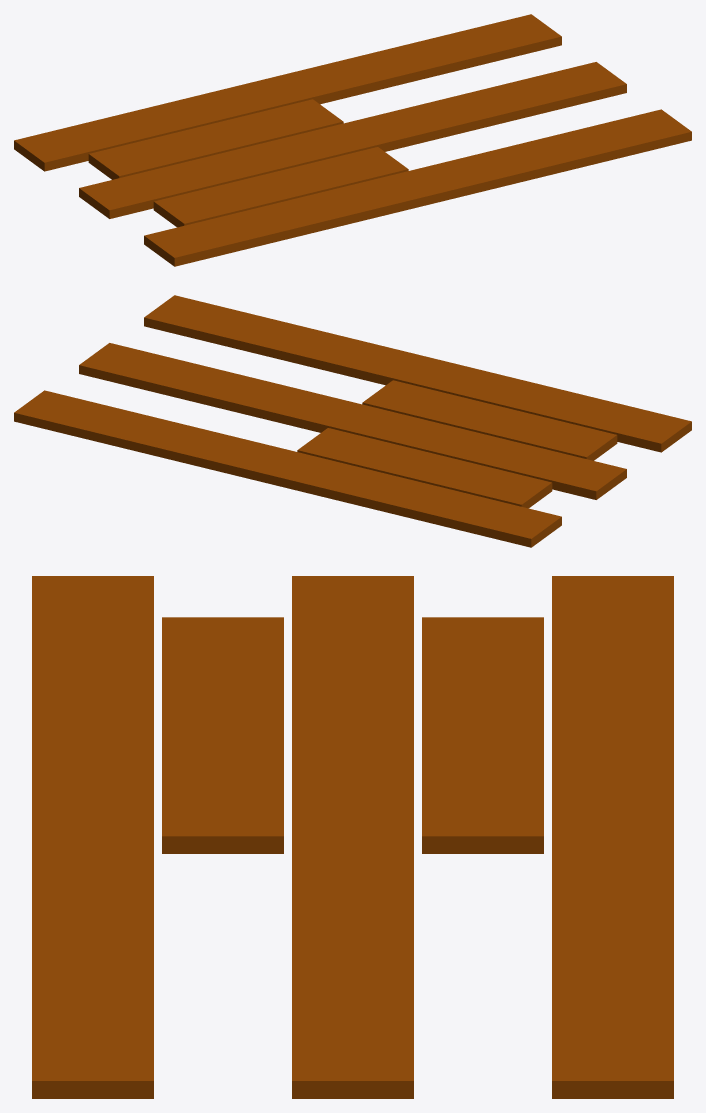
The model's file is RPG_Tiles_Square_Wooden_Boards_Double_04.FBX.
3 views of the same model, one above another, from view 1: azimuth 30°, elevation 25°; view 2: azimuth 150°, elevation 25°; view 3: azimuth 270°, elevation 25° (orthographic). The views are drawn at different scales.
Visible parts, largest first — view 1: RPG_Tiles_Square_Wooden_Boards_Double_04; view 2: RPG_Tiles_Square_Wooden_Boards_Double_04; view 3: RPG_Tiles_Square_Wooden_Boards_Double_04.
Part boxes in pixels (x1,y1,x2,y2): RPG_Tiles_Square_Wooden_Boards_Double_04: (14, 14, 691, 266); RPG_Tiles_Square_Wooden_Boards_Double_04: (14, 295, 691, 547); RPG_Tiles_Square_Wooden_Boards_Double_04: (32, 576, 673, 1098).
Size of the model in its own units: 5514 by 90 by 2964.
